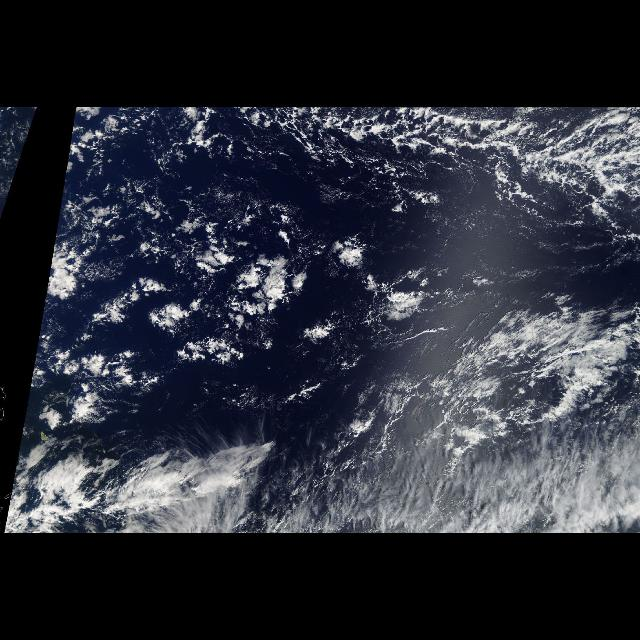Fish: (192, 109, 640, 263), (8, 444, 314, 532)
Flower: (56, 171, 464, 443)
Gravel: (268, 114, 634, 256)
